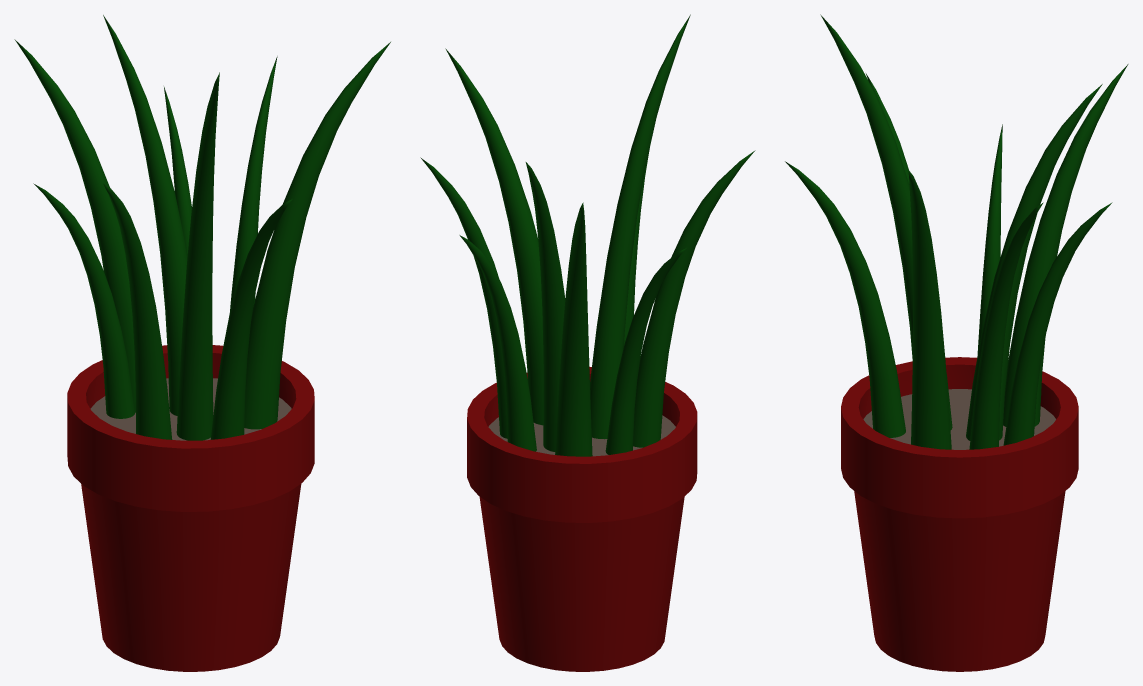
File: Plante4_4.fbx
3 views of the same model, side by side, from view 1: azimuth 30°, elevation 25°; view 2: azimuth 150°, elevation 25°; view 3: azimuth 270°, elevation 25° (orthographic). The views are drawn at different scales.
Parts seen in each view (by area): view 1: pCylinder725, pCone27, pCone28, pCone25, pCone21, pCone22, pCone20, pCone23, pCone24, pCone26, pCylinder724; view 2: pCylinder725, pCone28, pCone27, pCone21, pCone22, pCone25, pCone26, pCone23, pCone24, pCylinder724, pCone20; view 3: pCylinder725, pCone27, pCone20, pCone22, pCone26, pCone24, pCone28, pCone25, pCone23, pCylinder724.
Part boxes in pixels (x1,y1,x2,y2): pCylinder725: (67,345,314,671); pCone27: (244,42,390,429); pCone28: (176,72,219,440); pCone25: (103,15,187,415); pCone21: (103,183,172,439); pCone22: (14,39,135,412); pCone20: (210,199,292,439); pCone23: (33,183,135,418); pCone24: (230,56,277,311); pCone26: (164,87,191,255); pCylinder724: (90,378,291,440); pCylinder725: (467,366,697,671); pCone28: (590,14,690,439); pCone27: (445,48,543,425); pCone21: (633,150,755,447); pCone22: (555,202,592,456); pCone25: (525,162,565,451); pCone26: (459,235,536,451); pCone23: (605,247,687,454); pCone24: (420,157,507,438); pCylinder724: (488,415,675,456); pCone20: (624,149,649,345); pCylinder725: (841,357,1078,671); pCone27: (908,170,951,449); pCone20: (785,161,905,437); pCone22: (1003,64,1128,426); pCone26: (1003,202,1112,445); pCone24: (969,202,1043,449); pCone28: (820,14,952,429); pCone25: (966,84,1102,440); pCone23: (977,124,1002,356); pCylinder724: (863,389,1055,449).
Size of the model in its own units: 16.25 by 31.25 by 16.23.
